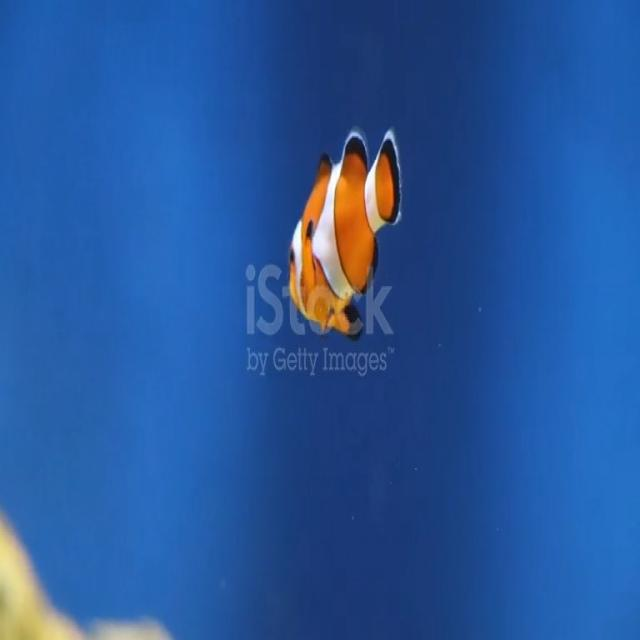fish: (286, 114, 406, 340)
